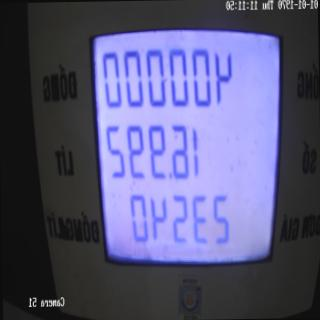screen: (86, 3, 290, 292)
